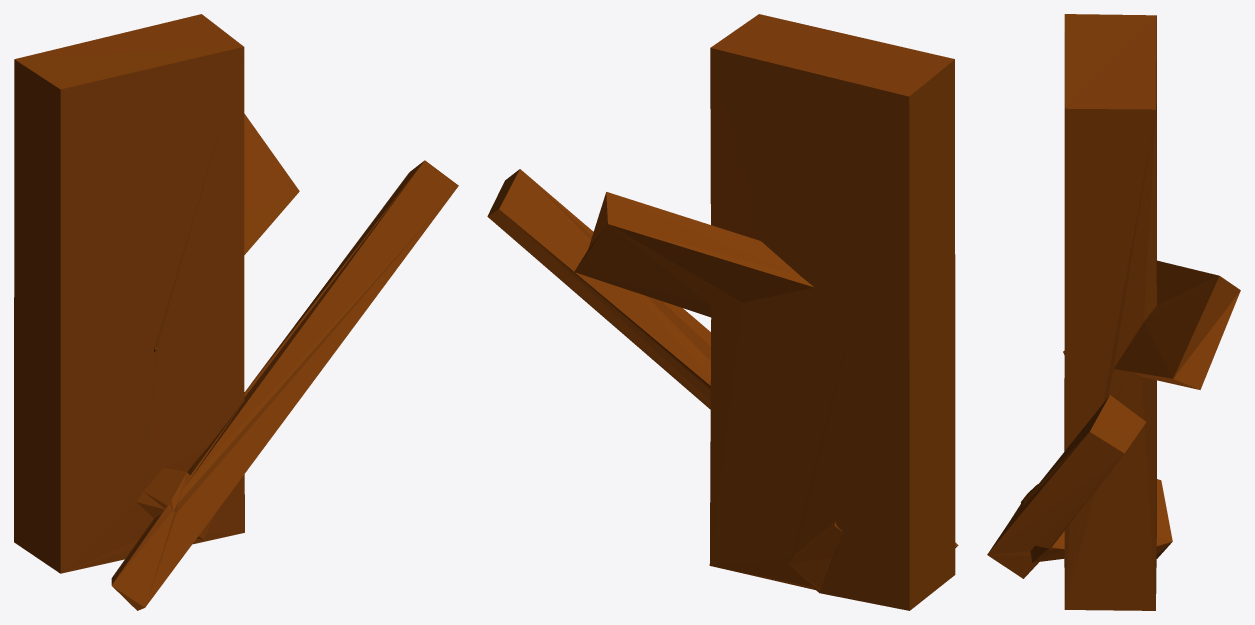
3 views of the same model, side by side, from view 1: azimuth 30°, elevation 25°; view 2: azimuth 150°, elevation 25°; view 3: azimuth 270°, elevation 25° (orthographic). The views are drawn at different scales.
Visible parts, largest first — view 1: 560_Cube.2257; view 2: 560_Cube.2257; view 3: 560_Cube.2257.
Boxes of the visible parts, x1,y1,x2,y2 form: 560_Cube.2257: (14, 14, 458, 610); 560_Cube.2257: (487, 14, 958, 610); 560_Cube.2257: (987, 14, 1240, 610).
Bounding box in the file's own units: 10.67 × 12.87 × 5.52.
